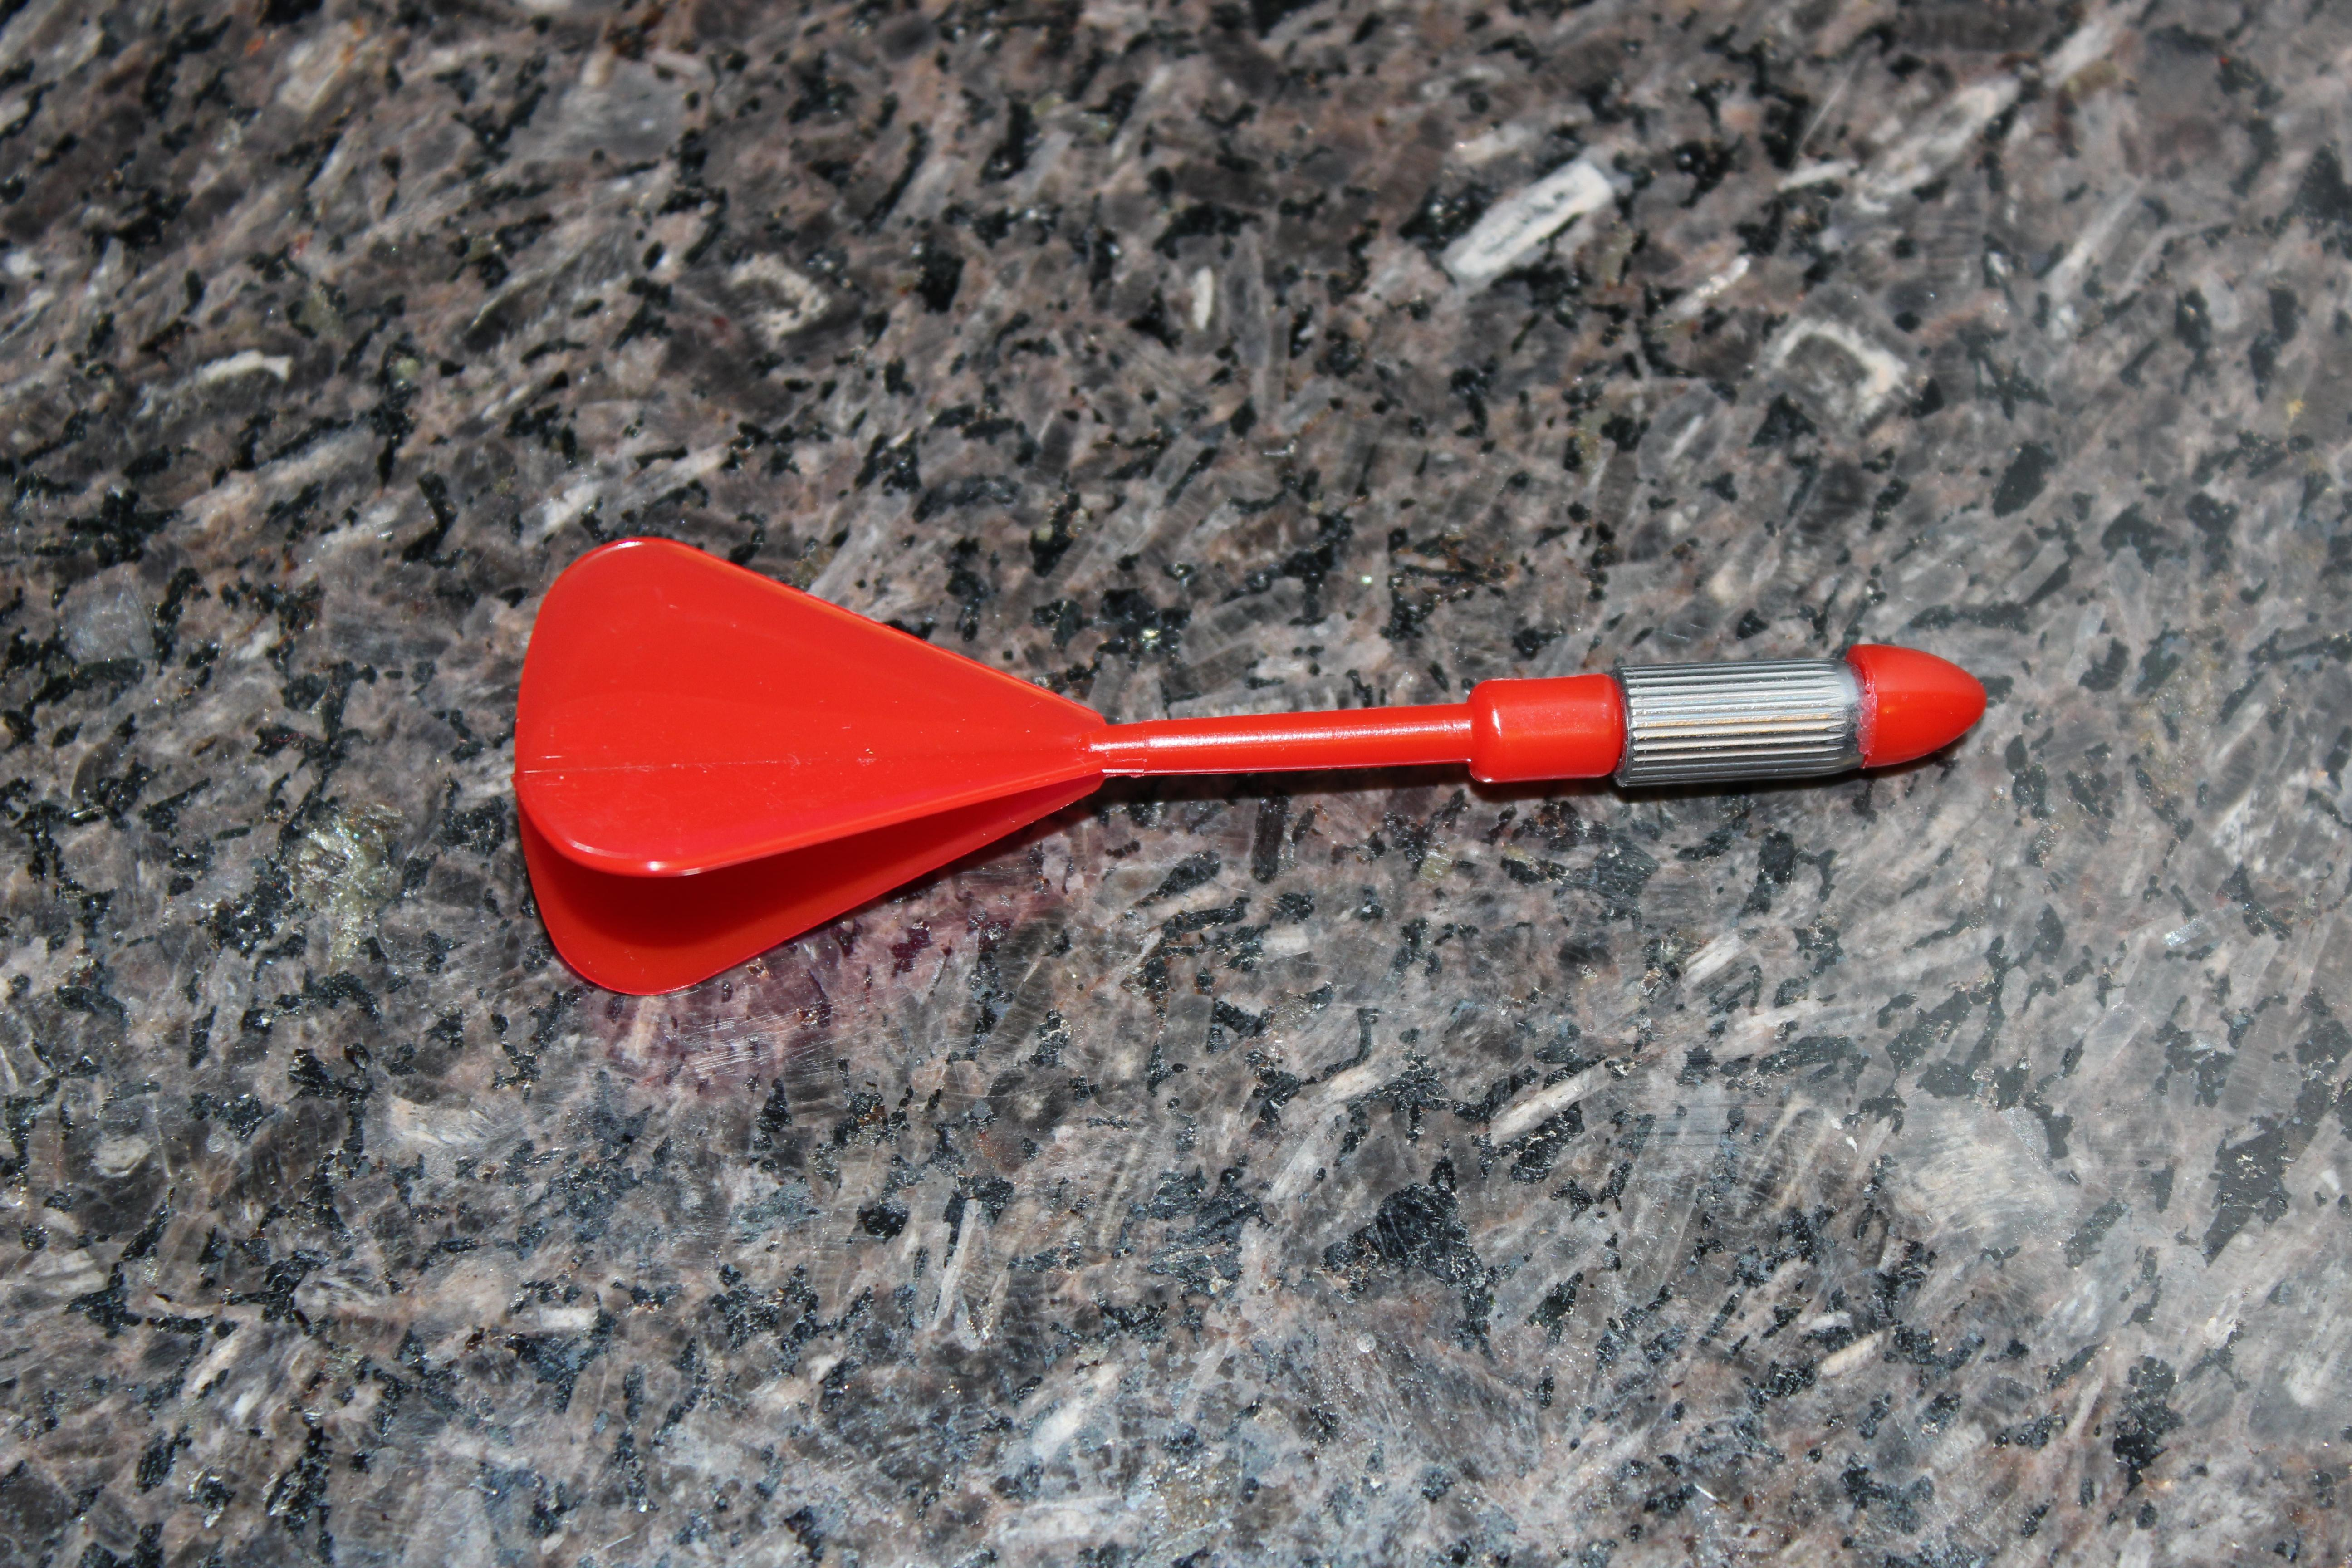redDart: (471, 488, 2013, 1048)
